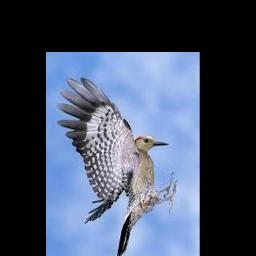Woodpecker: (57, 78, 178, 256)
